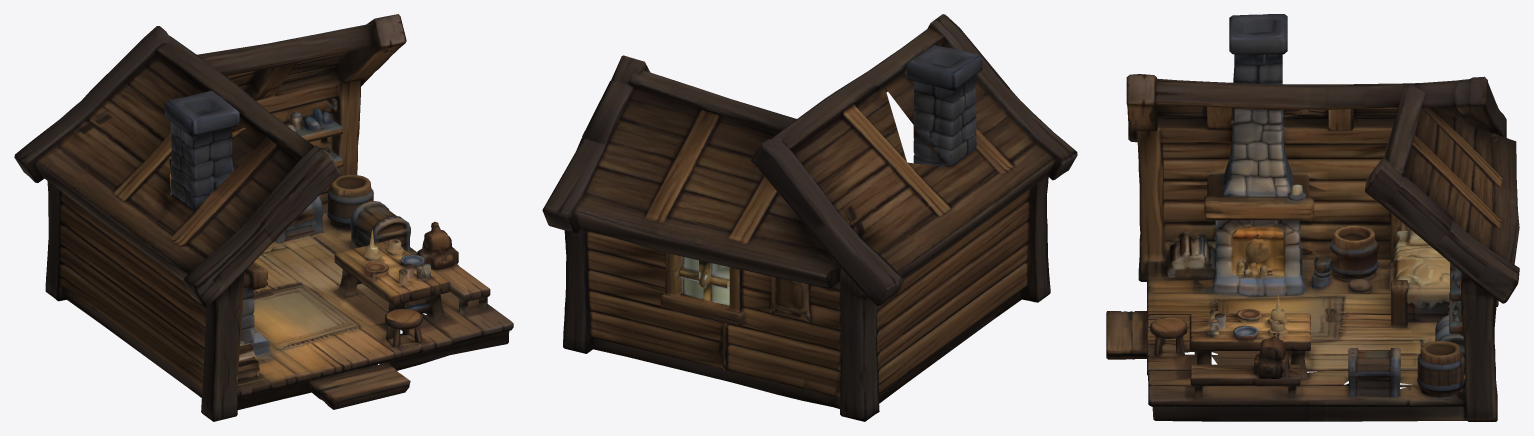
Rendered from dwarven hut interior 3d model.glb.
3 renders of one model, left to right at view 1: azimuth 30°, elevation 25°; view 2: azimuth 150°, elevation 25°; view 3: azimuth 270°, elevation 25°, orthographic.
Visible parts, largest first — view 1: tripo_node_79203a2f-bf59-4834-b1a5-8d864d800ef0; view 2: tripo_node_79203a2f-bf59-4834-b1a5-8d864d800ef0; view 3: tripo_node_79203a2f-bf59-4834-b1a5-8d864d800ef0.
Part boxes in pixels (<box>): tripo_node_79203a2f-bf59-4834-b1a5-8d864d800ef0: <box>14,14,513,421</box>; tripo_node_79203a2f-bf59-4834-b1a5-8d864d800ef0: <box>542,14,1077,421</box>; tripo_node_79203a2f-bf59-4834-b1a5-8d864d800ef0: <box>1106,14,1519,421</box>.
Bounding box in the file's own units: 0.944 × 0.7104 × 0.9785.
1 material, 1 textured.
